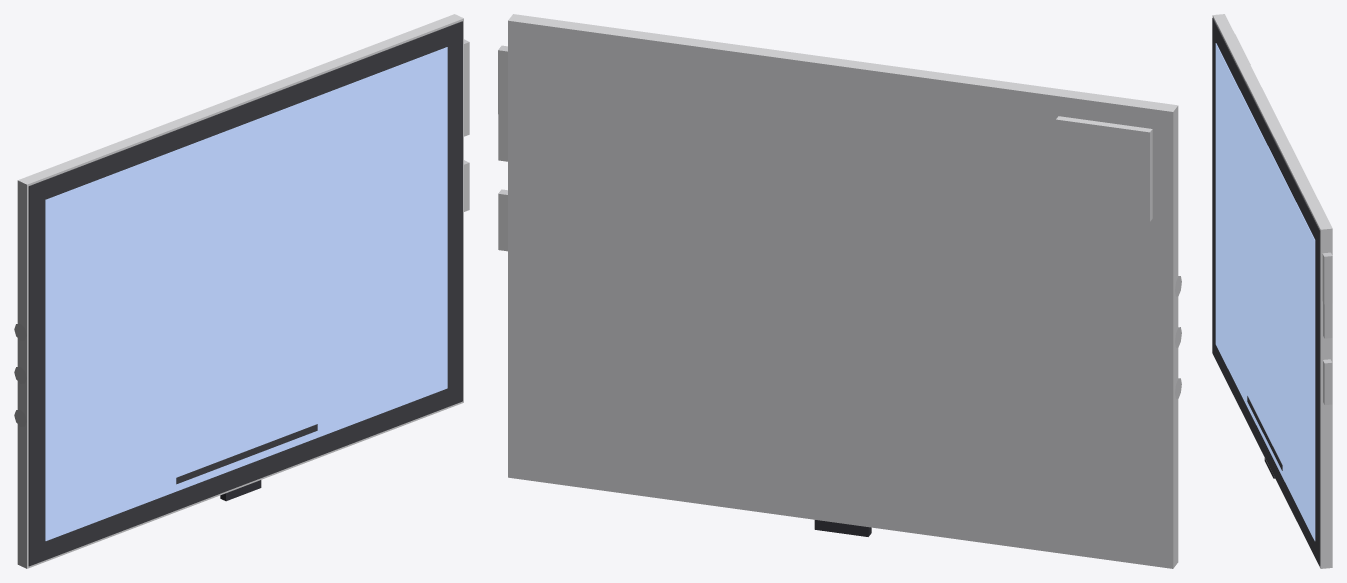
File: tablet.glb
3 renders of one model, left to right at view 1: azimuth 30°, elevation 25°; view 2: azimuth 150°, elevation 25°; view 3: azimuth 270°, elevation 25°, orthographic. The views are drawn at different scales.
Parts seen in each view (by area): view 1: Screen, Bezel, Body, HomeBar; view 2: Body, CamBump; view 3: Screen, Bezel, Body, VolBtn (×2), PowerBtn, HomeBar.
Part boxes in pixels (<box>): Screen: <box>45,47,447,540</box>; Bezel: <box>28,21,462,566</box>; Body: <box>17,14,463,568</box>; HomeBar: <box>176,424,317,484</box>; Body: <box>508,14,1178,568</box>; CamBump: <box>1056,116,1152,221</box>; Screen: <box>1215,43,1315,540</box>; Bezel: <box>1212,18,1320,565</box>; Body: <box>1212,14,1332,568</box>; VolBtn (×2): <box>1323,297,1332,405</box>; PowerBtn: <box>1322,252,1332,304</box>; HomeBar: <box>1247,396,1282,470</box>.
Bounding box in the file's own units: 0.2507 × 0.1848 × 0.0591.
